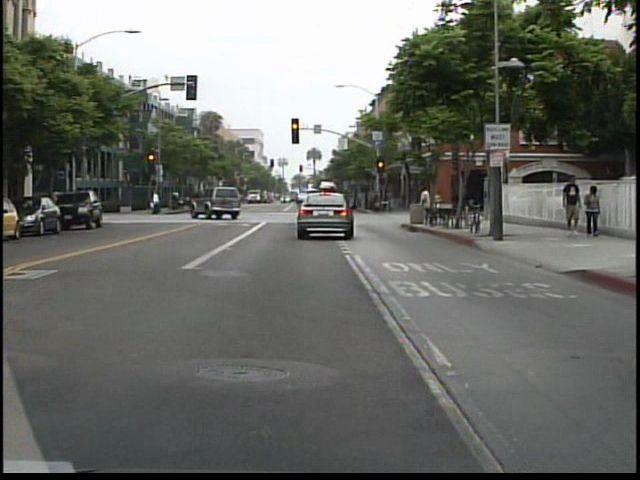person: (560, 168, 587, 234), (582, 181, 607, 239), (418, 181, 439, 225), (151, 186, 168, 219)
